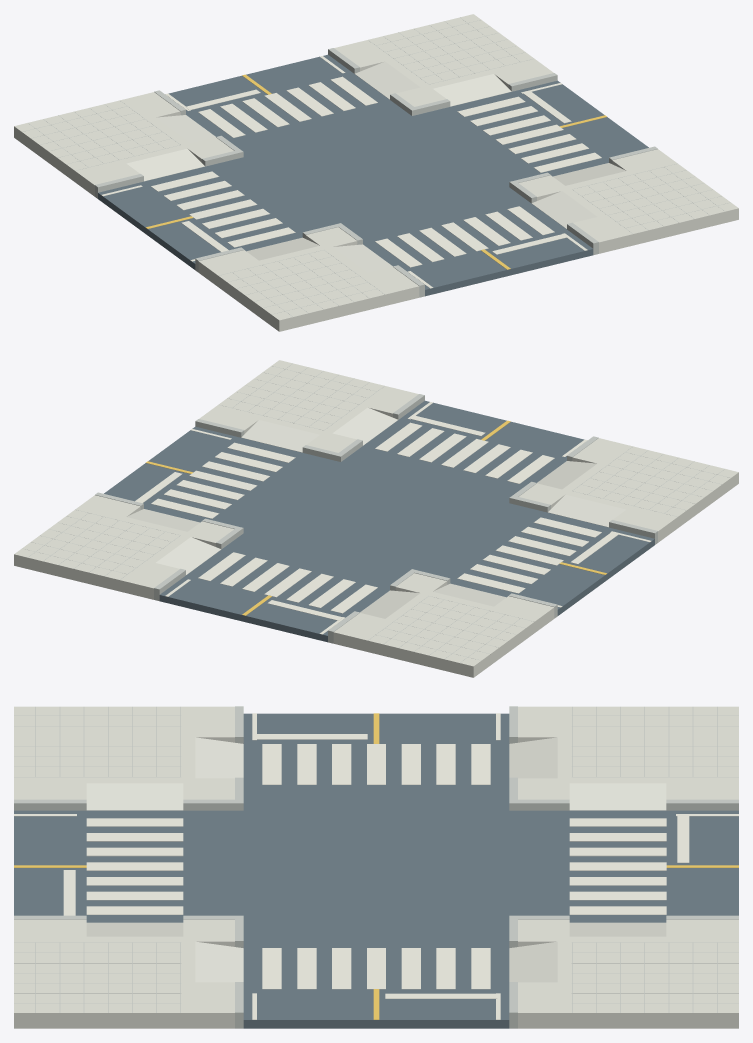
Rendered from SIMUS_Road_Crossroad_15m.glb.
The picture shows the model from 3 angles, top to bottom: view 1: azimuth 30°, elevation 25°; view 2: azimuth 150°, elevation 25°; view 3: azimuth 270°, elevation 25°; orthographic projection. The views are drawn at different scales.
Visible parts, largest first — view 1: Road, Corner, Crosswalk, Paving joint, Stop line, White approach, Yellow approach; view 2: Road, Corner, Crosswalk, Paving joint, Stop line, White approach, Yellow approach; view 3: Road, Corner, Crosswalk, Paving joint, Stop line, White approach, Yellow approach.
Part boxes in pixels (x1=…): Road: x1=98, y1=54, x2=648, y2=296; Corner: x1=14, y1=14, x2=738, y2=331; Crosswalk: x1=151, y1=76, x2=601, y2=267; Paving joint: x1=22, y1=17, x2=730, y2=316; Stop line: x1=181, y1=89, x2=571, y2=254; White approach: x1=101, y1=56, x2=587, y2=288; Yellow approach: x1=146, y1=74, x2=606, y2=269; Road: x1=104, y1=400, x2=654, y2=642; Corner: x1=14, y1=360, x2=738, y2=677; Crosswalk: x1=151, y1=422, x2=601, y2=613; Paving joint: x1=22, y1=363, x2=730, y2=662; Stop line: x1=135, y1=415, x2=618, y2=620; White approach: x1=165, y1=402, x2=651, y2=634; Yellow approach: x1=146, y1=420, x2=606, y2=615; Road: x1=14, y1=713, x2=738, y2=1028; Corner: x1=14, y1=706, x2=738, y2=1028; Crosswalk: x1=86, y1=744, x2=666, y2=989; Paving joint: x1=14, y1=706, x2=738, y2=1012; Stop line: x1=63, y1=734, x2=689, y2=998; White approach: x1=14, y1=713, x2=738, y2=1019; Yellow approach: x1=14, y1=713, x2=738, y2=1019.
Size of the model in its own units: 15 by 0.37 by 15.
